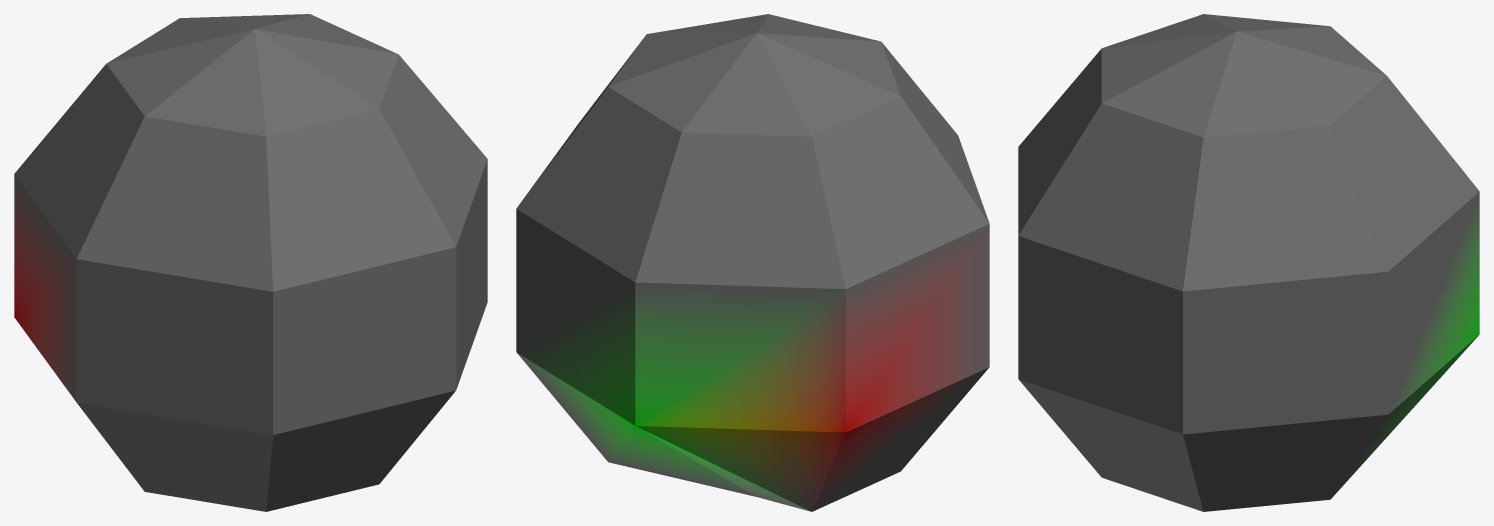
Rendered from re_decimating_conquest_18_before.obj.
3 views of the same model, side by side, from view 1: azimuth 30°, elevation 25°; view 2: azimuth 150°, elevation 25°; view 3: azimuth 270°, elevation 25° (orthographic).
Bounding box in the file's own units: 1.85 × 2 × 1.81.
